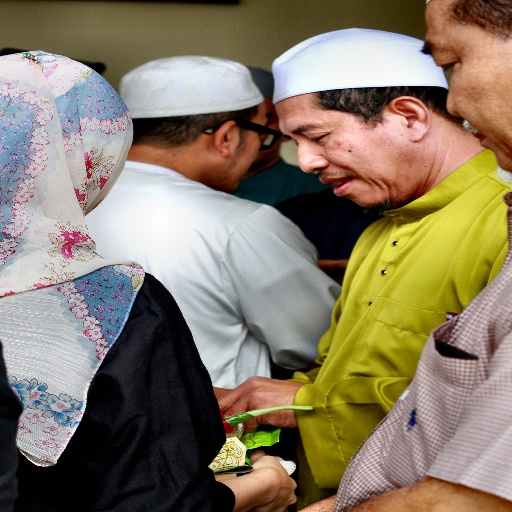hand: (217, 375, 308, 435), (235, 458, 307, 510)
